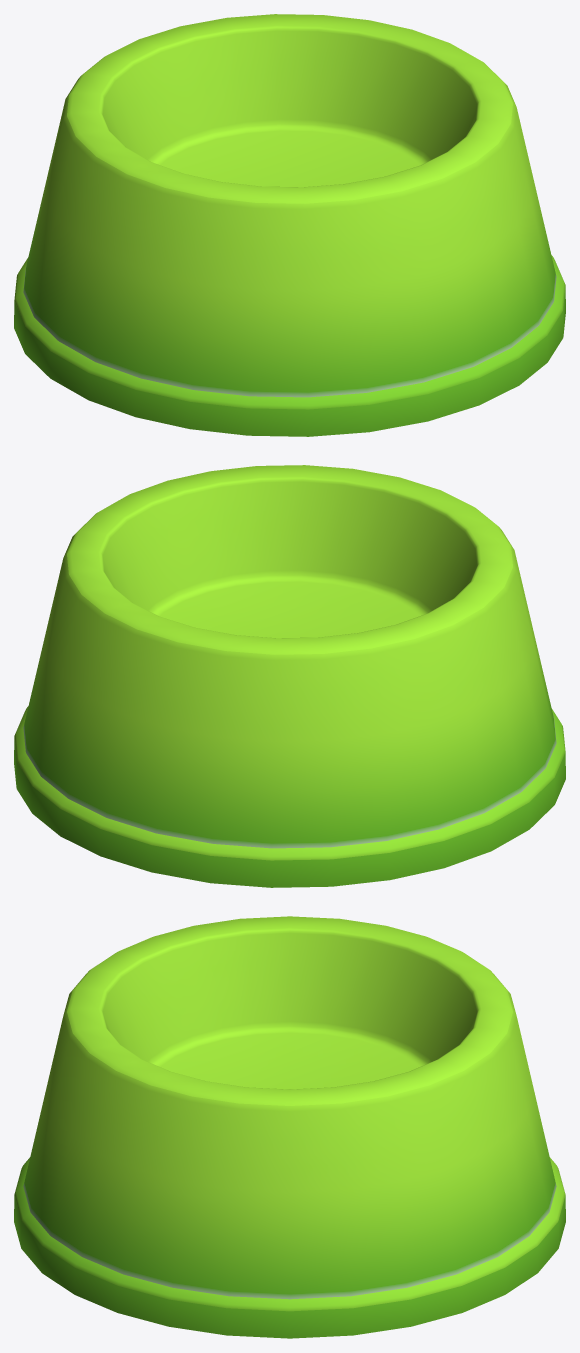
Rendered from Dogfood.FBX.
3 views of the same model, one above another, from view 1: azimuth 30°, elevation 25°; view 2: azimuth 150°, elevation 25°; view 3: azimuth 270°, elevation 25° (orthographic).
Visible parts, largest first — view 1: OBJ_501; view 2: OBJ_501; view 3: OBJ_501.
Part boxes in pixels (<box>): OBJ_501: <box>14,14,565,436</box>; OBJ_501: <box>14,465,565,887</box>; OBJ_501: <box>14,916,565,1338</box>.
Bounding box in the file's own units: 65.79 × 28.04 × 65.79.
